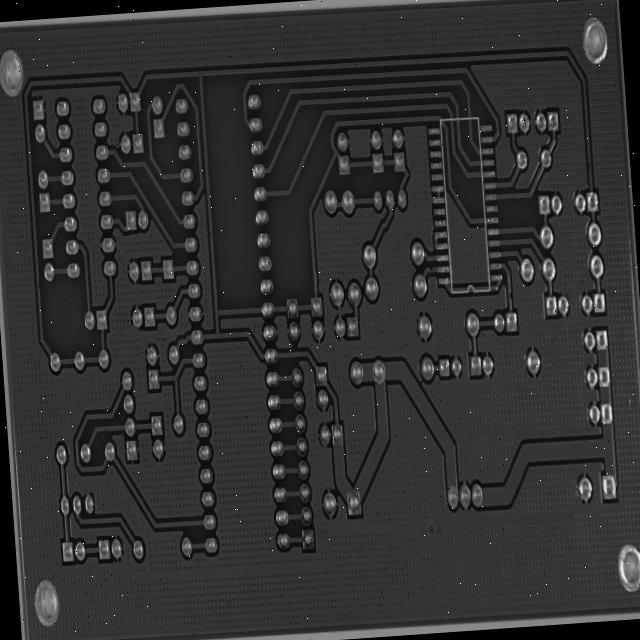mouse_bite: (489, 181, 497, 202), (404, 147, 412, 164), (573, 14, 581, 31)
